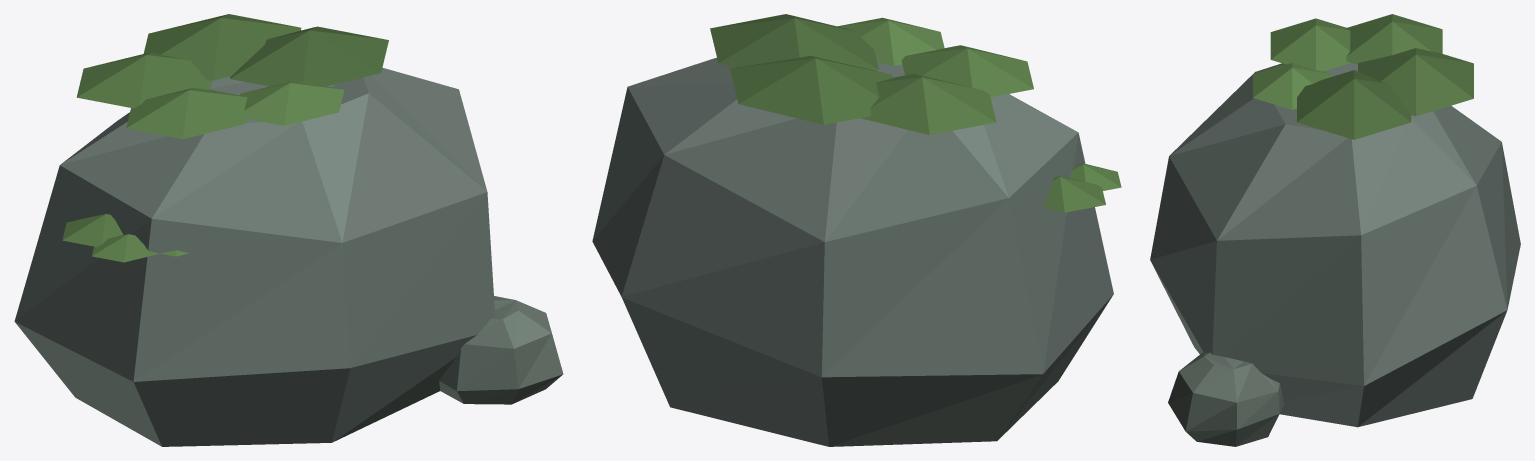
The model's file is mossy_rock_a.glb.
3 views of the same model, side by side, from view 1: azimuth 30°, elevation 25°; view 2: azimuth 150°, elevation 25°; view 3: azimuth 270°, elevation 25° (orthographic). The views are drawn at different scales.
Parts seen in each view (by area): view 1: geometry; view 2: geometry; view 3: geometry.
Part boxes in pixels (box(x1,y1,x2,y2)): geometry: box(14, 14, 563, 446); geometry: box(592, 14, 1121, 446); geometry: box(1150, 14, 1520, 446).
Size of the model in its own units: 1.69 by 1.17 by 1.32.
